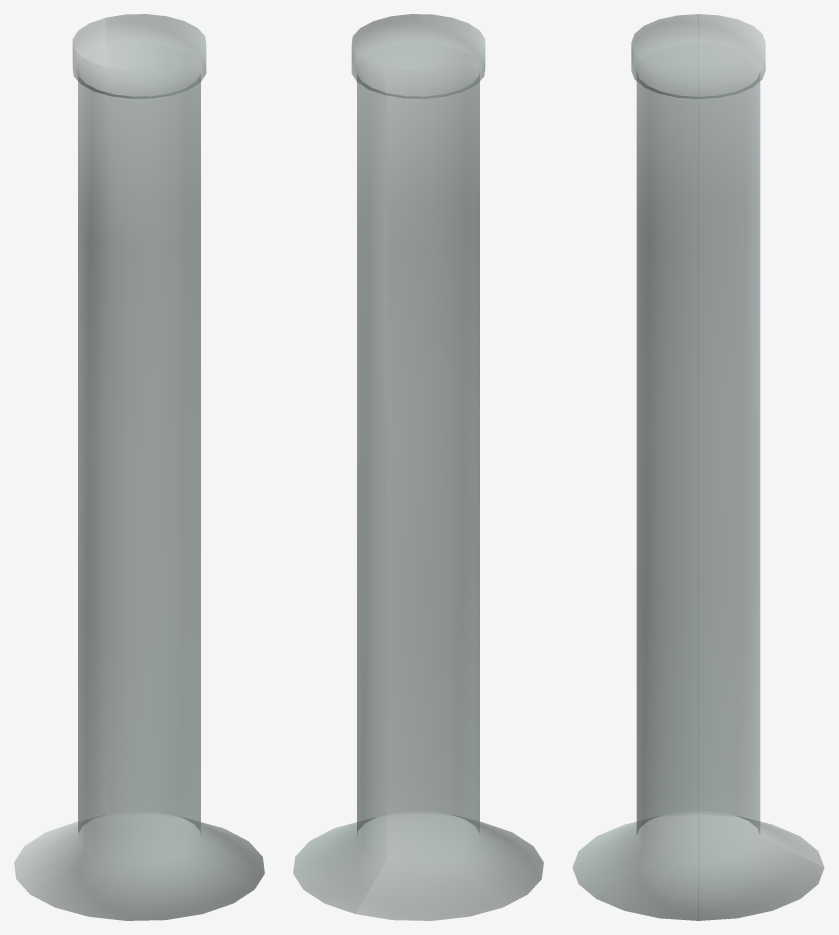
File: lab-flask--4.gltf
The picture shows the model from 3 angles, left to right: view 1: azimuth 30°, elevation 25°; view 2: azimuth 150°, elevation 25°; view 3: azimuth 270°, elevation 25°; orthographic projection.
Visible parts, largest first — view 1: Bottle_3; view 2: Bottle_3; view 3: Bottle_3.
Boxes of the visible parts, x1,y1,x2,y2 form: Bottle_3: [14, 14, 264, 920]; Bottle_3: [293, 14, 543, 920]; Bottle_3: [572, 14, 824, 920].
Size of the model in its own units: 0.118 by 0.4261 by 0.118.
1 material, 1 textured.
